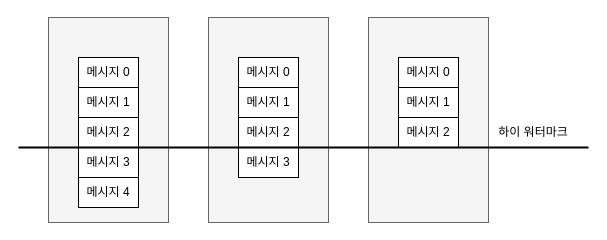
This 607x240 diagram has some shape labels left out. The shapes that lost their labels are listed below. From the top down, each one's box as (x1, y1, x2, y2) in pixels, then its label:
(48, 16, 168, 222): replica 0
(208, 16, 328, 222): replica 1
(368, 16, 488, 222): replica 2
